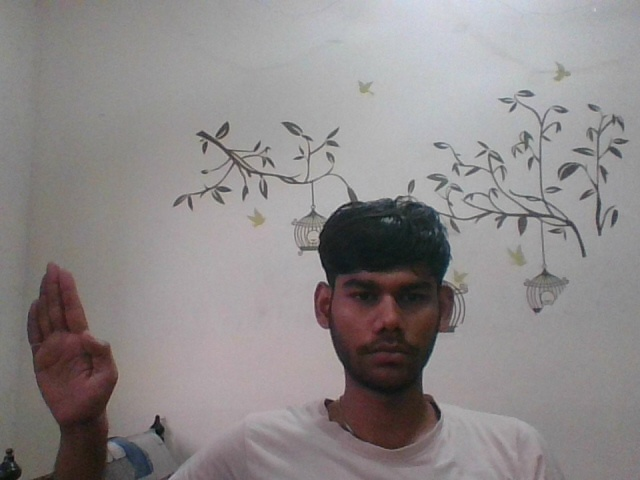Hello: (11, 264, 128, 416)
